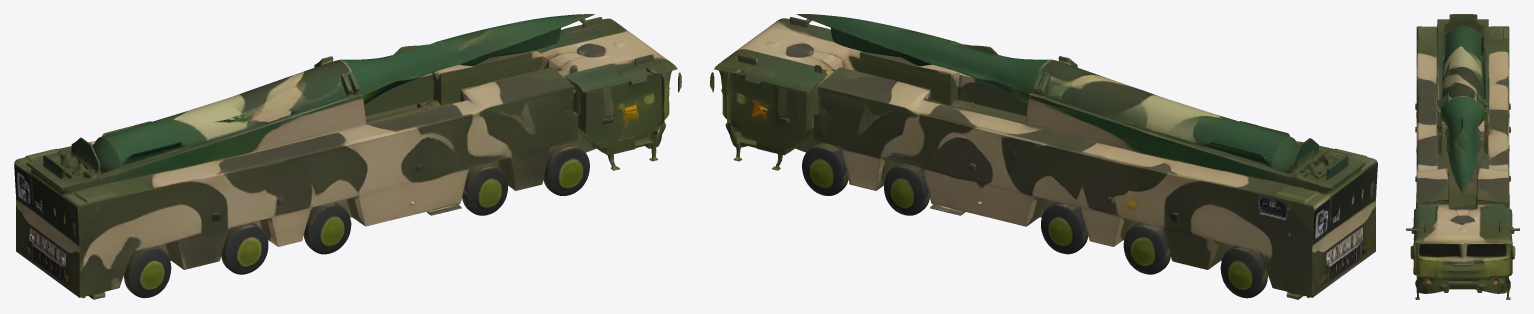
3 renders of one model, left to right at view 1: azimuth 30°, elevation 25°; view 2: azimuth 150°, elevation 25°; view 3: azimuth 270°, elevation 25°, orthographic. The views are drawn at different scales.
Parts seen in each view (by area): view 1: cn-df17; view 2: cn-df17; view 3: cn-df17.
Part boxes in pixels (bbox=[...]): cn-df17: bbox=[14, 14, 681, 299]; cn-df17: bbox=[710, 14, 1377, 299]; cn-df17: bbox=[1406, 14, 1519, 299].
Size of the model in its own units: 11 by 2.81 by 2.47.
Materials: 1 (1 with a texture image).
